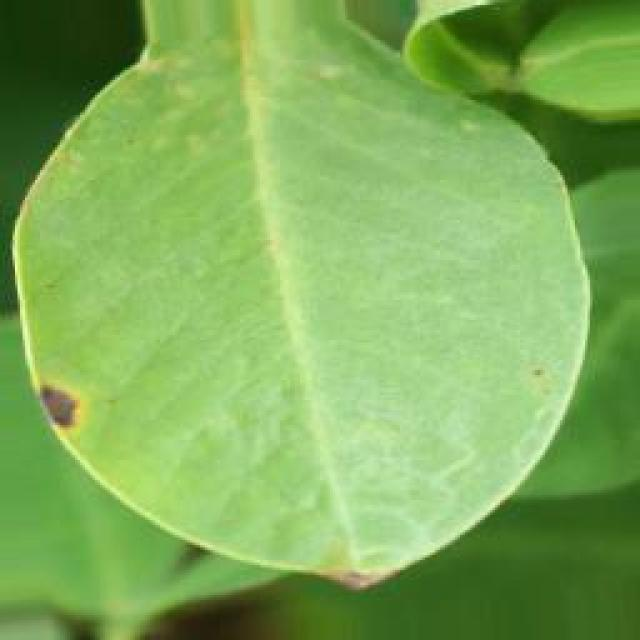Sigatoka: (272, 522, 390, 601), (30, 350, 103, 438), (499, 356, 569, 436)
